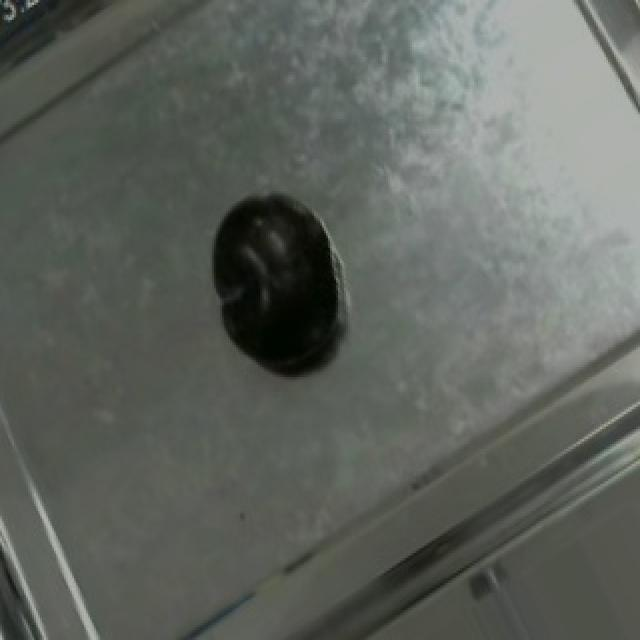Fruit: (194, 178, 352, 390)
